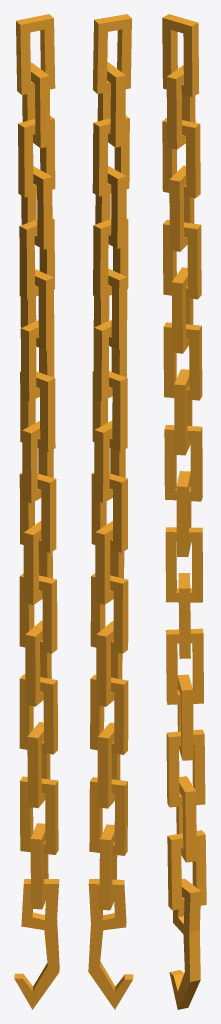
The model's file is SM_Chain_Hang_C.fbx.
3 views of the same model, side by side, from view 1: azimuth 30°, elevation 25°; view 2: azimuth 210°, elevation 25°; view 3: azimuth 330°, elevation 25° (orthographic).
Parts seen in each view (by area): view 1: chain-hang-c; view 2: chain-hang-c; view 3: chain-hang-c.
Part boxes in pixels (x1,y1,x2,y2): chain-hang-c: [14, 14, 59, 1009]; chain-hang-c: [88, 14, 133, 1009]; chain-hang-c: [162, 14, 206, 1009].
Bounding box in the file's own units: 0.0378 × 0.9185 × 0.0331.
